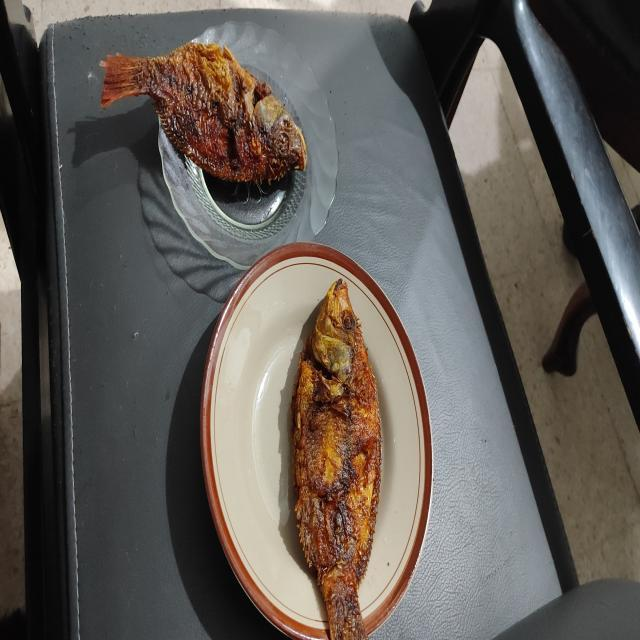ikan_mujair: (292, 279, 382, 640), (100, 42, 306, 185)
